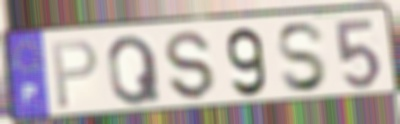5: (332, 16, 385, 91)
9: (225, 26, 268, 98)
P: (50, 37, 100, 113)
Q: (105, 33, 164, 108)
S: (274, 20, 330, 96), (162, 30, 217, 103)
